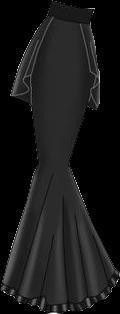Hemline: (0, 273, 119, 313), (9, 22, 53, 107), (78, 25, 101, 110)
Waistline: (46, 15, 94, 25), (51, 0, 94, 11)
